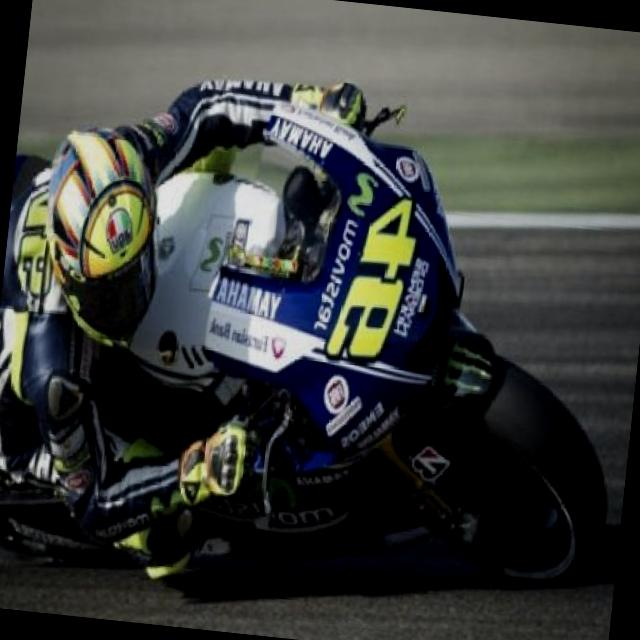Person: (0, 42, 369, 599)
